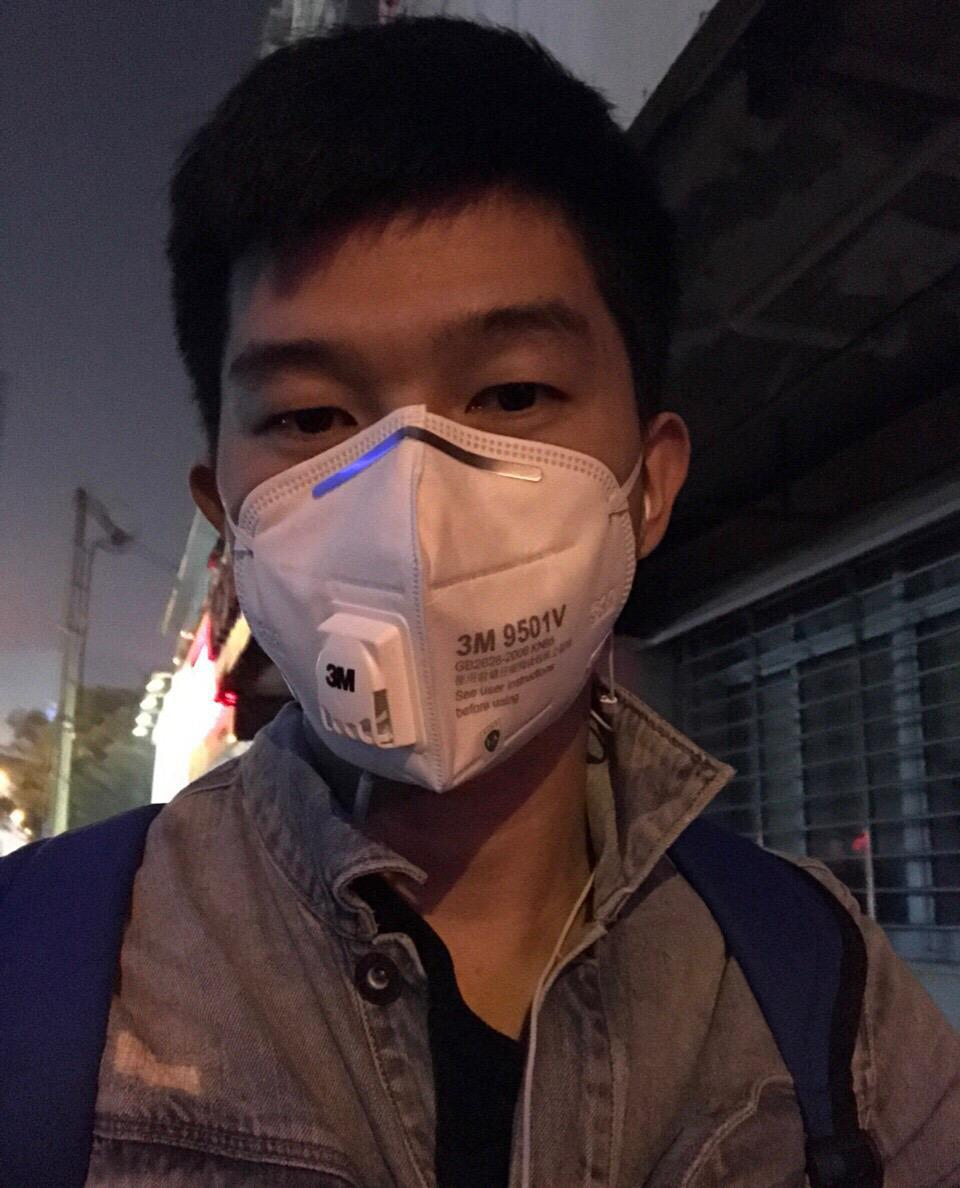OK: (210, 272, 655, 799)
